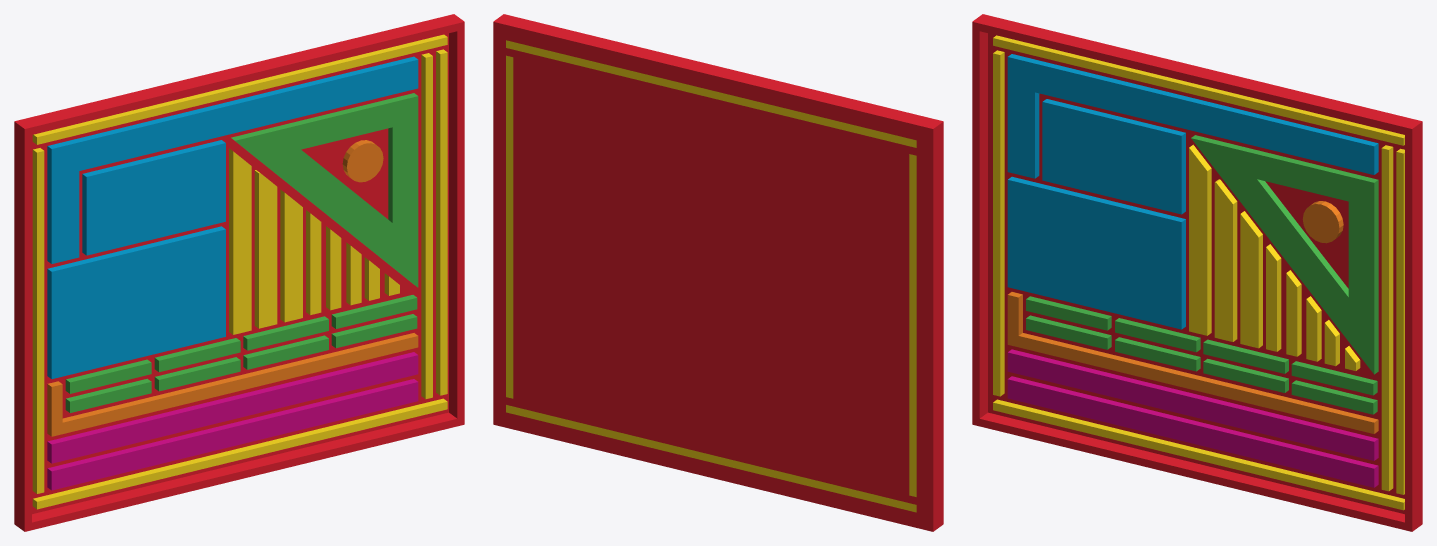
The model's file is tinker.obj.
The picture shows the model from 3 angles, left to right: view 1: azimuth 30°, elevation 25°; view 2: azimuth 150°, elevation 25°; view 3: azimuth 330°, elevation 25°; orthographic projection.
Parts seen in each view (by area): view 1: group_0_15277357, group_0_40919, group_0_16768282, group_0_4634441, group_0_14093196, group_0_16089887; view 2: group_0_15277357, group_0_16768282; view 3: group_0_15277357, group_0_40919, group_0_16768282, group_0_4634441, group_0_14093196, group_0_16089887.
Part boxes in pixels (left/top/right/bottom): group_0_15277357: left=14, top=14, right=464, bottom=531; group_0_40919: left=47, top=56, right=418, bottom=378; group_0_16768282: left=32, top=34, right=447, bottom=509; group_0_4634441: left=65, top=93, right=418, bottom=412; group_0_14093196: left=47, top=352, right=418, bottom=490; group_0_16089887: left=47, top=140, right=418, bottom=436; group_0_15277357: left=493, top=14, right=943, bottom=531; group_0_16768282: left=506, top=40, right=916, bottom=512; group_0_15277357: left=972, top=14, right=1422, bottom=531; group_0_40919: left=1007, top=54, right=1378, bottom=329; group_0_16768282: left=993, top=35, right=1404, bottom=510; group_0_4634441: left=1026, top=135, right=1378, bottom=414; group_0_14093196: left=1007, top=349, right=1378, bottom=487; group_0_16089887: left=1007, top=201, right=1378, bottom=433.
Size of the model in its own units: 240 by 210 by 10.
